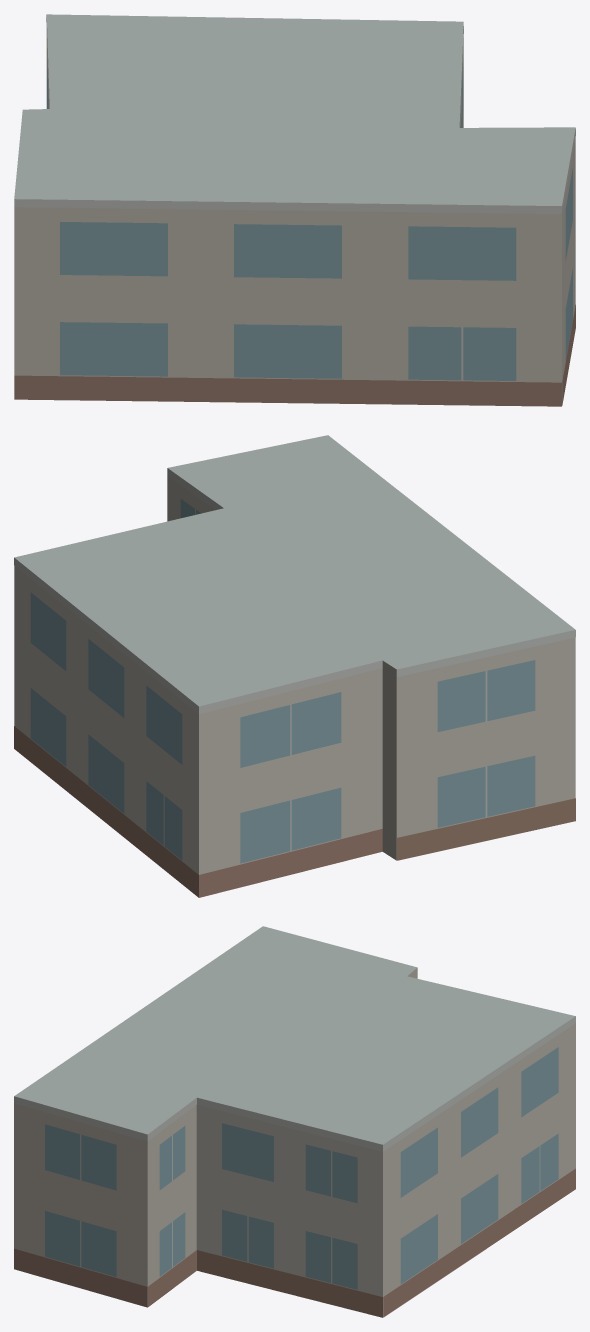
Rendered from survey-upis-32813206.glb.
The picture shows the model from 3 angles, top to bottom: view 1: azimuth 30°, elevation 25°; view 2: azimuth 150°, elevation 25°; view 3: azimuth 270°, elevation 25°; orthographic projection. The views are drawn at different scales.
Visible parts, largest first — view 1: survey-upis-32813206.tmp; view 2: survey-upis-32813206.tmp; view 3: survey-upis-32813206.tmp.
Part boxes in pixels (bbox=[...]): survey-upis-32813206.tmp: bbox=[14, 14, 575, 406]; survey-upis-32813206.tmp: bbox=[14, 435, 575, 897]; survey-upis-32813206.tmp: bbox=[14, 926, 575, 1317].
Size of the model in its own units: 16.54 by 6.1 by 17.96.
